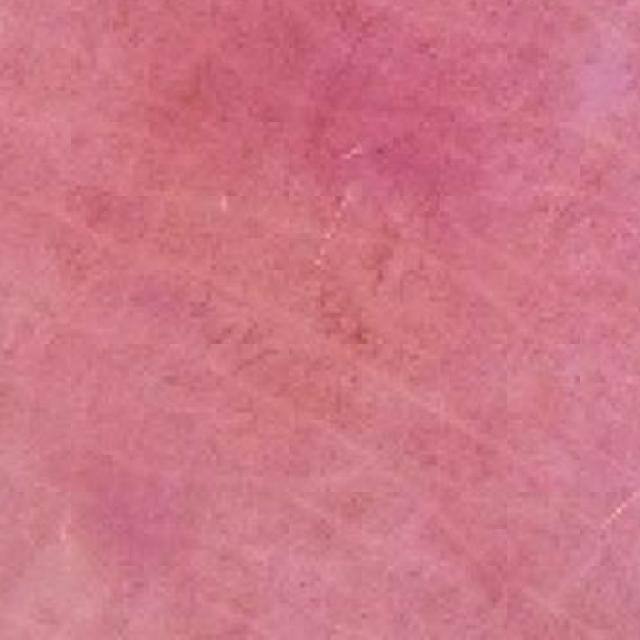DF: (0, 0, 640, 285)
